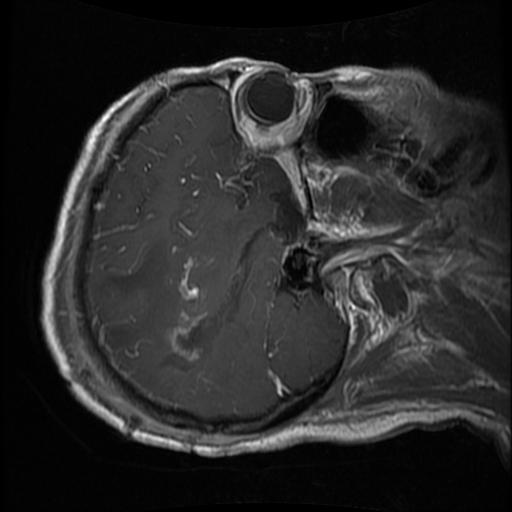glioma: (172, 313, 222, 358)
